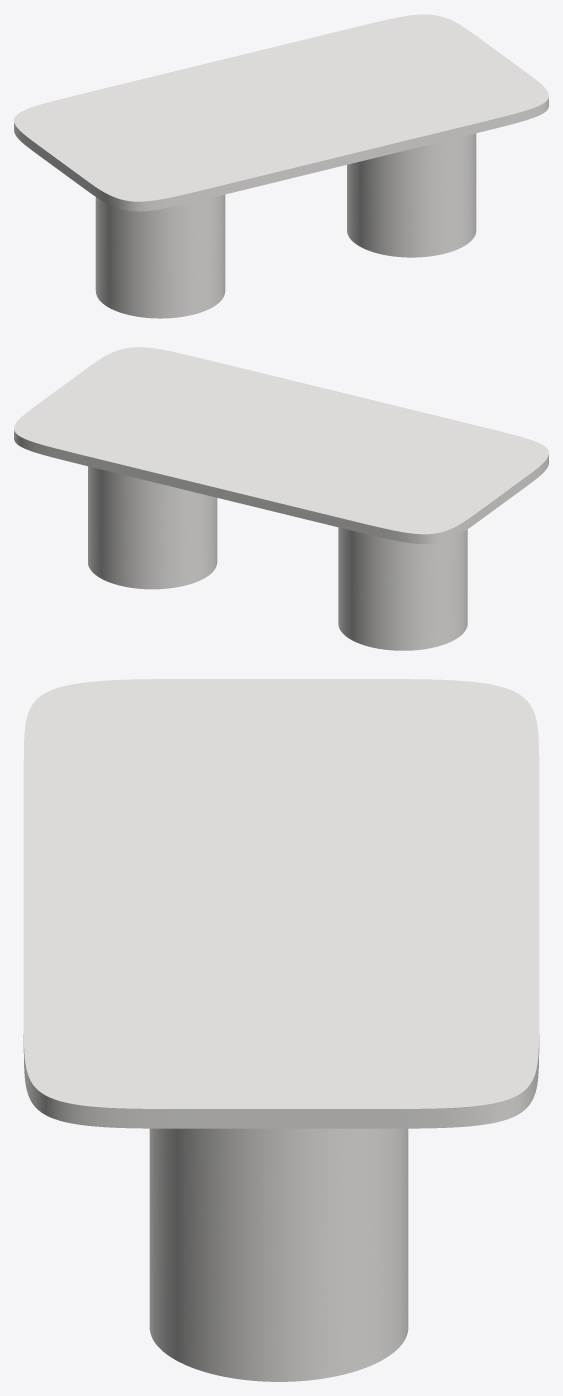
The model's file is purewhite_softrecta_standard_stream.glb.
The picture shows the model from 3 angles, top to bottom: view 1: azimuth 30°, elevation 25°; view 2: azimuth 150°, elevation 25°; view 3: azimuth 270°, elevation 25°; orthographic projection. The views are drawn at different scales.
Visible parts, largest first — view 1: standard_softrecta, stream; view 2: standard_softrecta, stream; view 3: standard_softrecta, stream.
Part boxes in pixels (bbox=[...]): standard_softrecta: bbox=[14, 14, 548, 211]; stream: bbox=[95, 133, 476, 318]; standard_softrecta: bbox=[14, 347, 548, 543]; stream: bbox=[88, 466, 467, 650]; standard_softrecta: bbox=[23, 679, 539, 1128]; stream: bbox=[149, 1128, 408, 1381].
Size of the model in its own units: 7.5 by 2.49 by 3.8.
1 material, 1 textured.
